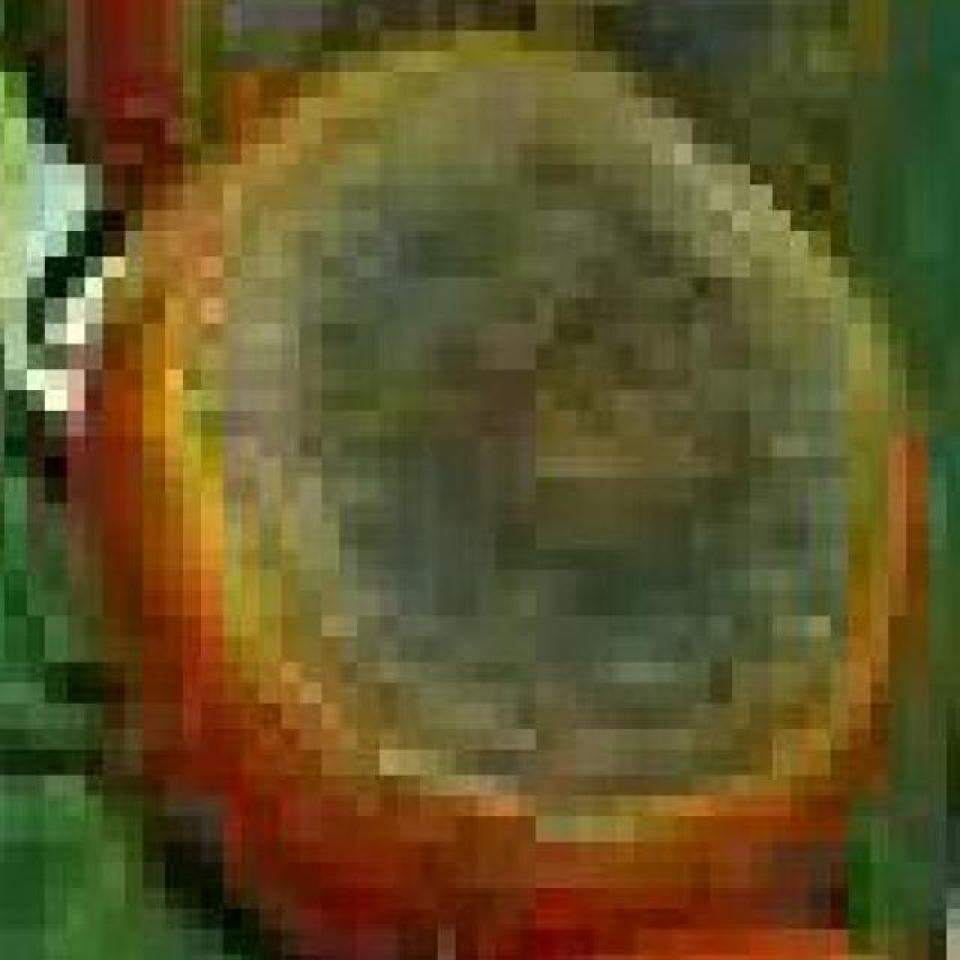Blossom_end_rot: (149, 41, 869, 817)
